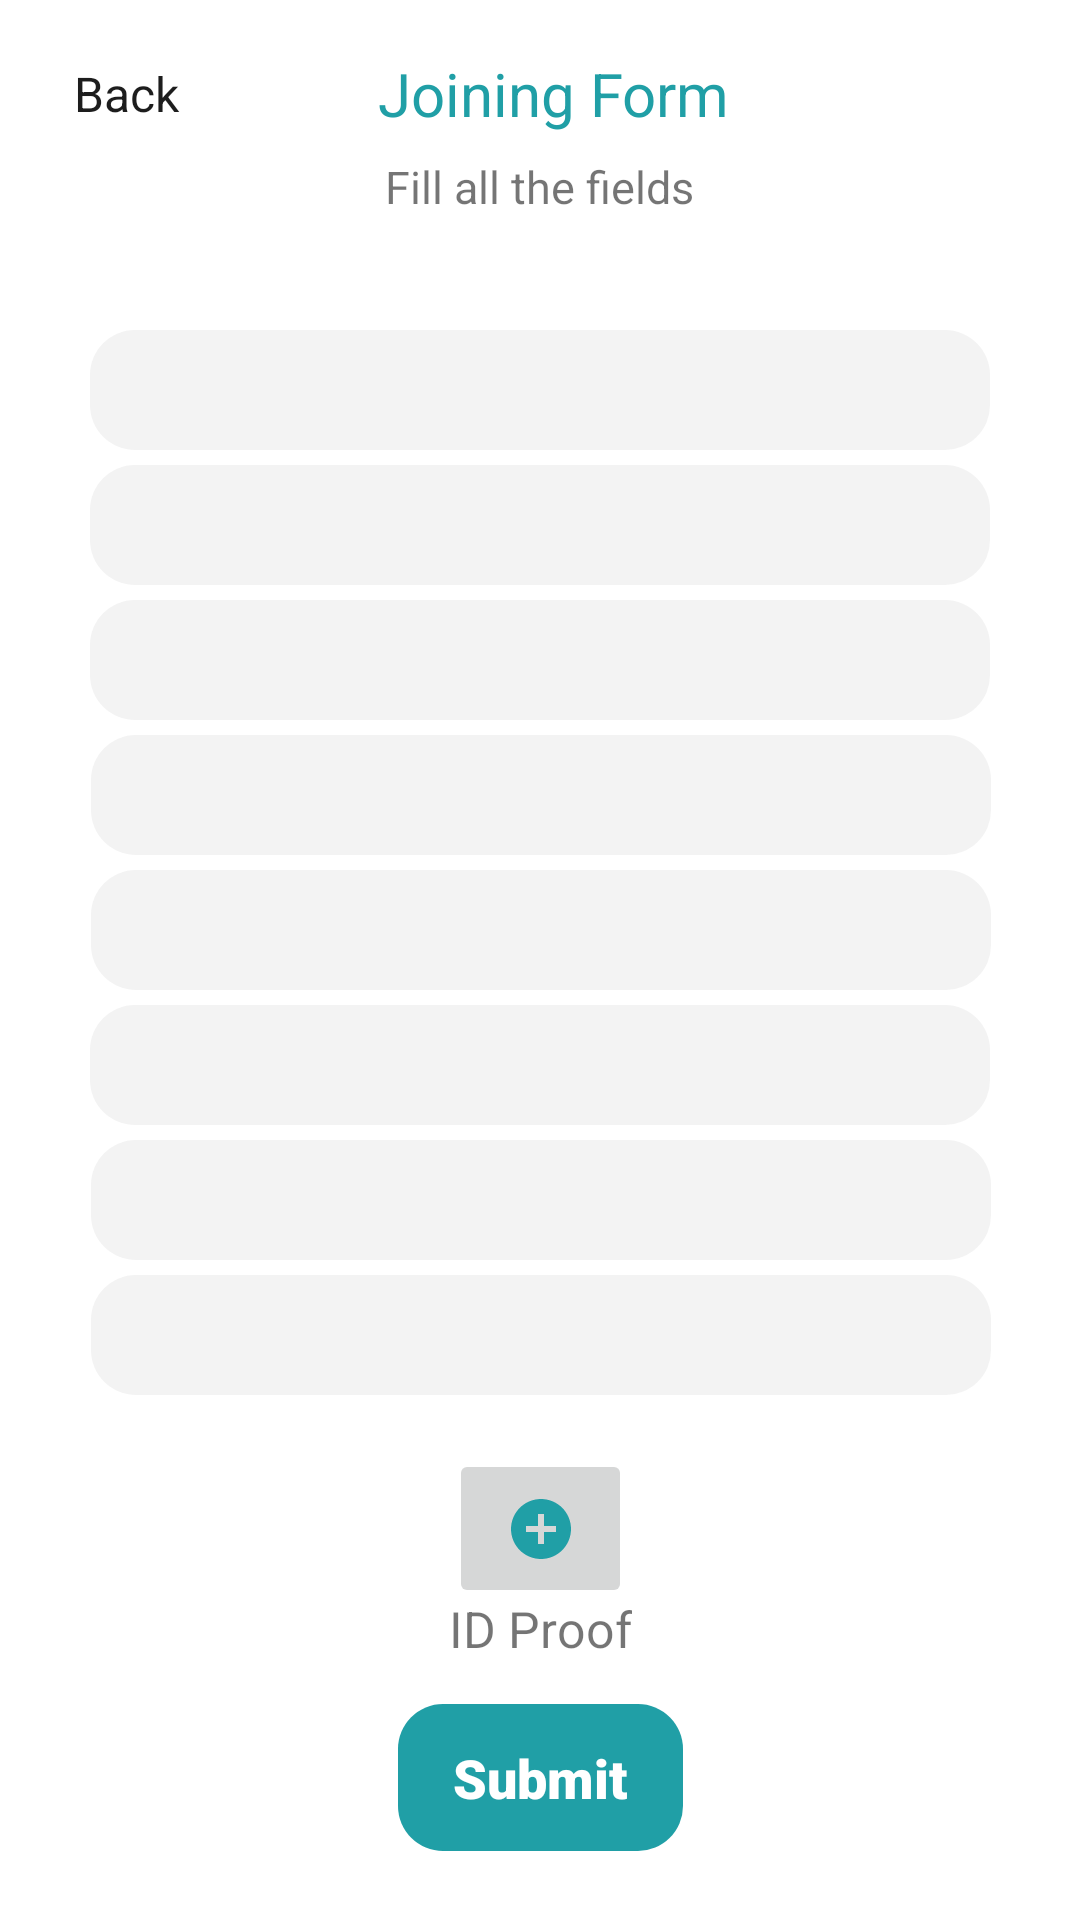

Icon bounding boxes for this 1080px×1920px phone screenshot, format (x1,y1,x2,y2):
add: (461,1467,620,1590)
